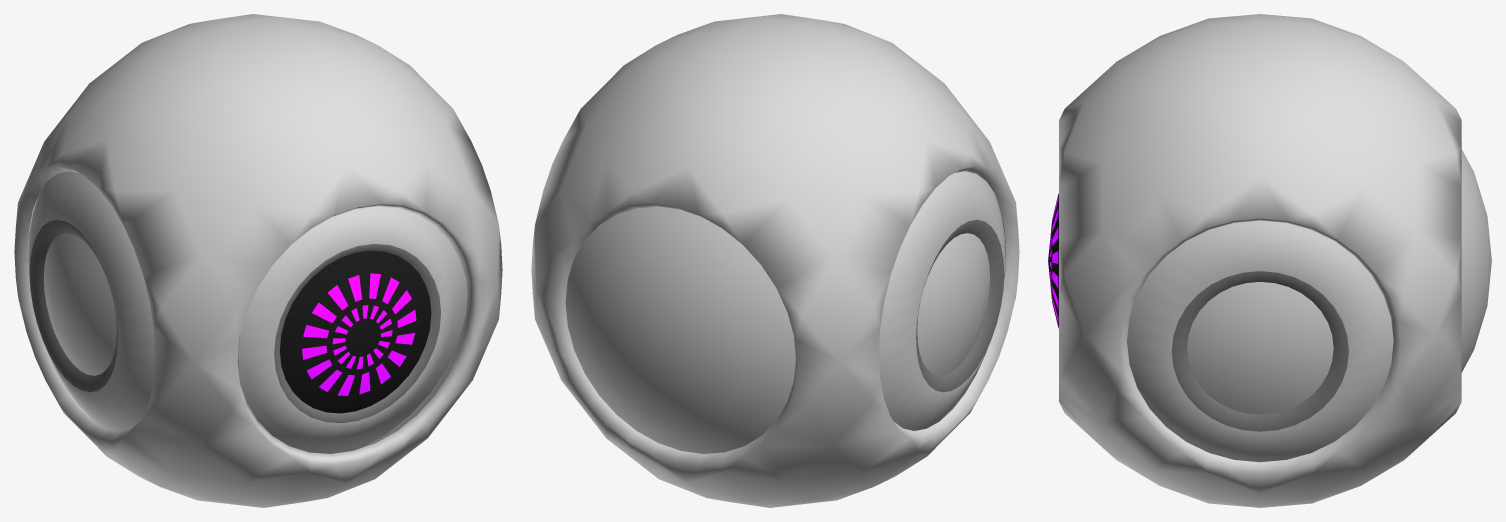
Rendered from The_Master_Eye_Edit2.fbx.
3 renders of one model, left to right at view 1: azimuth 30°, elevation 25°; view 2: azimuth 150°, elevation 25°; view 3: azimuth 270°, elevation 25°, orthographic.
Parts seen in each view (by area): view 1: HullOuter, HullInner, InnerEye, HullMiddle; view 2: HullOuter, HullMiddle, HullInner; view 3: HullOuter, HullMiddle, HullInner, InnerEye.
Part boxes in pixels (<box>): HullOuter: <box>14,14,502,507</box>; HullInner: <box>43,206,467,453</box>; InnerEye: <box>279,250,431,413</box>; HullMiddle: <box>28,171,468,450</box>; HullOuter: <box>531,14,1019,507</box>; HullMiddle: <box>565,171,1005,453</box>; HullInner: <box>917,233,990,375</box>; HullOuter: <box>1059,14,1461,507</box>; HullMiddle: <box>1127,149,1491,462</box>; HullInner: <box>1187,282,1333,414</box>; InnerEye: <box>1048,193,1058,328</box>.
Bounding box in the file's own units: 189 × 211 × 192.
